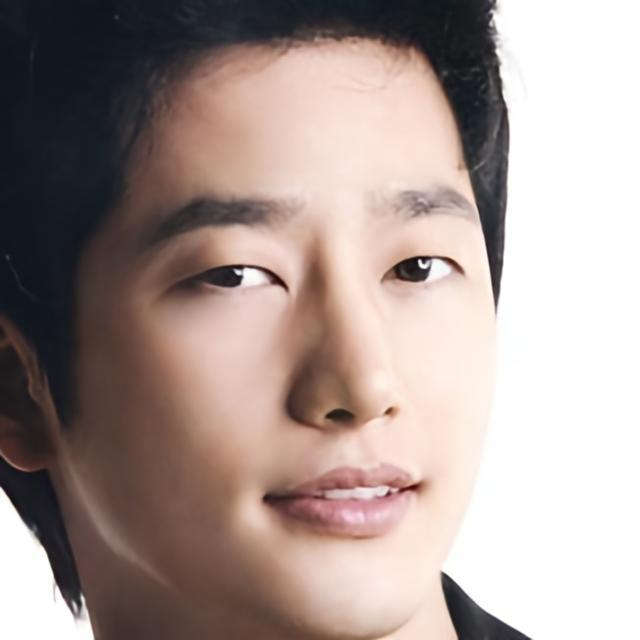neutral: (94, 34, 498, 618)
